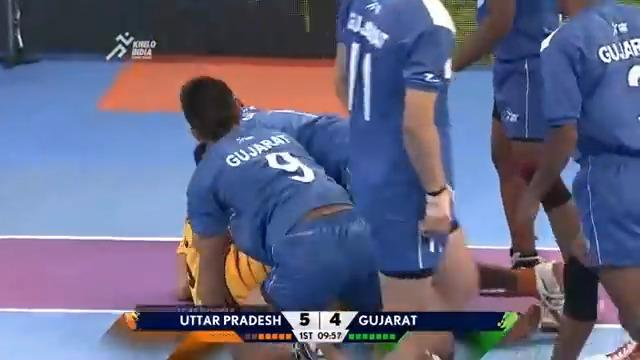Player: (174, 72, 595, 313), (331, 0, 468, 311), (525, 1, 640, 360), (451, 0, 592, 271)
Raider: (176, 74, 382, 312)
